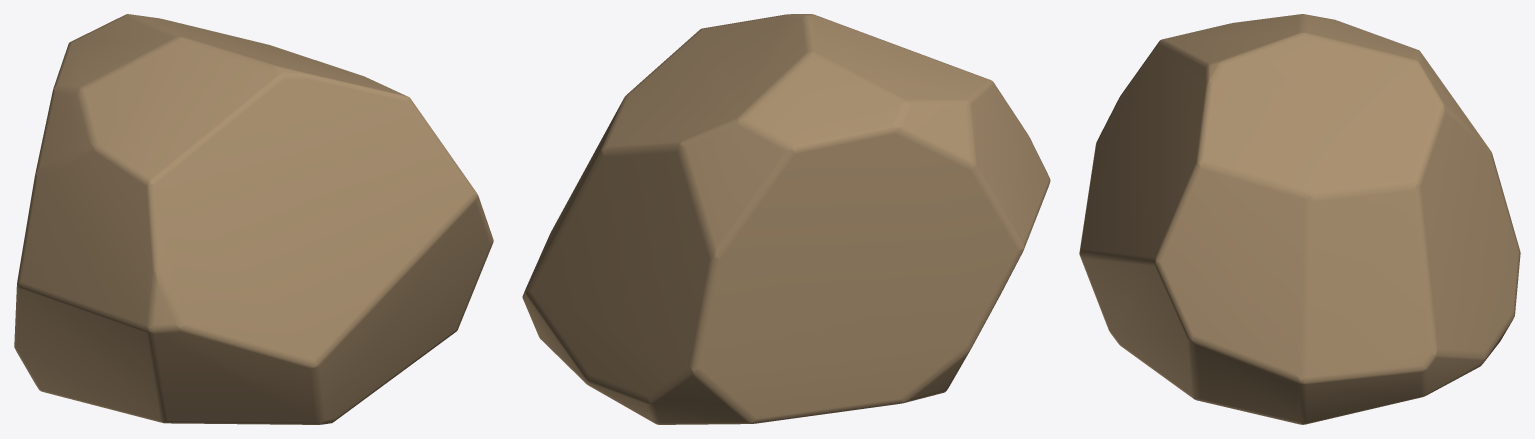
File: rock.fbx
The picture shows the model from 3 angles, left to right: view 1: azimuth 30°, elevation 25°; view 2: azimuth 150°, elevation 25°; view 3: azimuth 270°, elevation 25°; orthographic projection. The views are drawn at different scales.
Visible parts, largest first — view 1: Cube; view 2: Cube; view 3: Cube.
Boxes of the visible parts, x1,y1,x2,y2 form: Cube: (14, 14, 493, 424); Cube: (522, 14, 1050, 424); Cube: (1079, 14, 1520, 424).
Bounding box in the file's own units: 1408 × 1081 × 1292.
